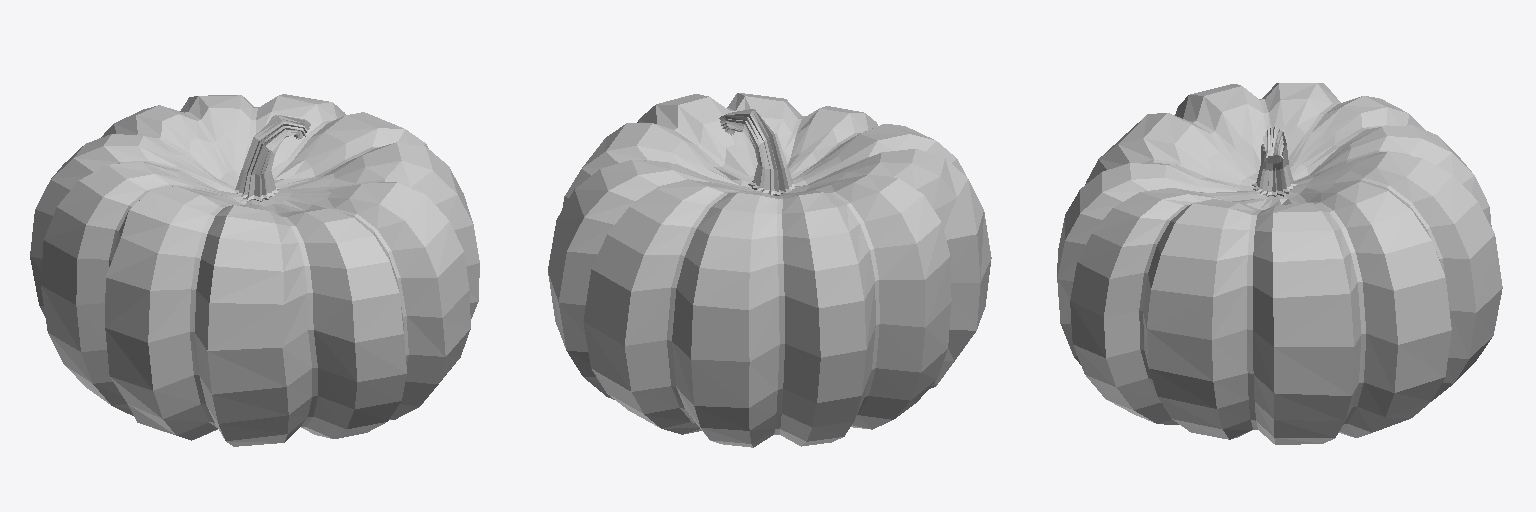
File: pumpkin_nosubdiv.obj
3 views of the same model, side by side, from view 1: azimuth 30°, elevation 25°; view 2: azimuth 150°, elevation 25°; view 3: azimuth 270°, elevation 25° (orthographic).
Parts seen in each view (by area): view 1: pumpkin_Sphere.008, stem.002_Sphere.007; view 2: pumpkin_Sphere.008, stem.002_Sphere.007; view 3: pumpkin_Sphere.008, stem.002_Sphere.007.
Part boxes in pixels (bbox=[...]): pumpkin_Sphere.008: bbox=[30, 94, 479, 446]; stem.002_Sphere.007: bbox=[234, 115, 310, 201]; pumpkin_Sphere.008: bbox=[548, 93, 991, 447]; stem.002_Sphere.007: bbox=[719, 109, 797, 195]; pumpkin_Sphere.008: bbox=[1057, 83, 1502, 444]; stem.002_Sphere.007: bbox=[1252, 126, 1296, 196].
Size of the model in its own units: 1.67 by 1.2 by 1.73.